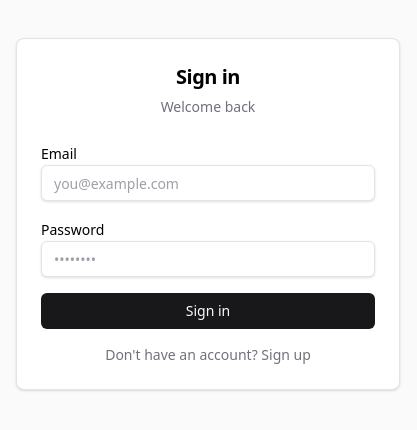
Test: SignInPage › shows validation errors for empty fields
The width and height of the screenshot is (417, 430).
Click the button "Sign in": {"x": 208, "y": 311} [41,293,375,329]
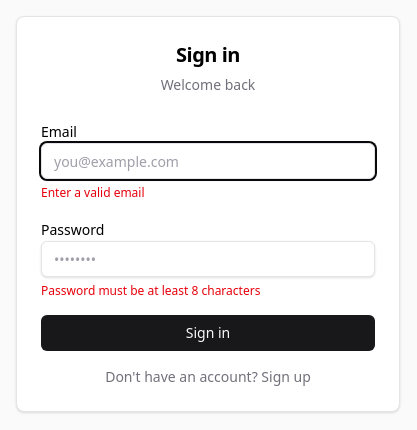
Check: the text "Enter a valid email" is shown, box [41,184,145,201]
